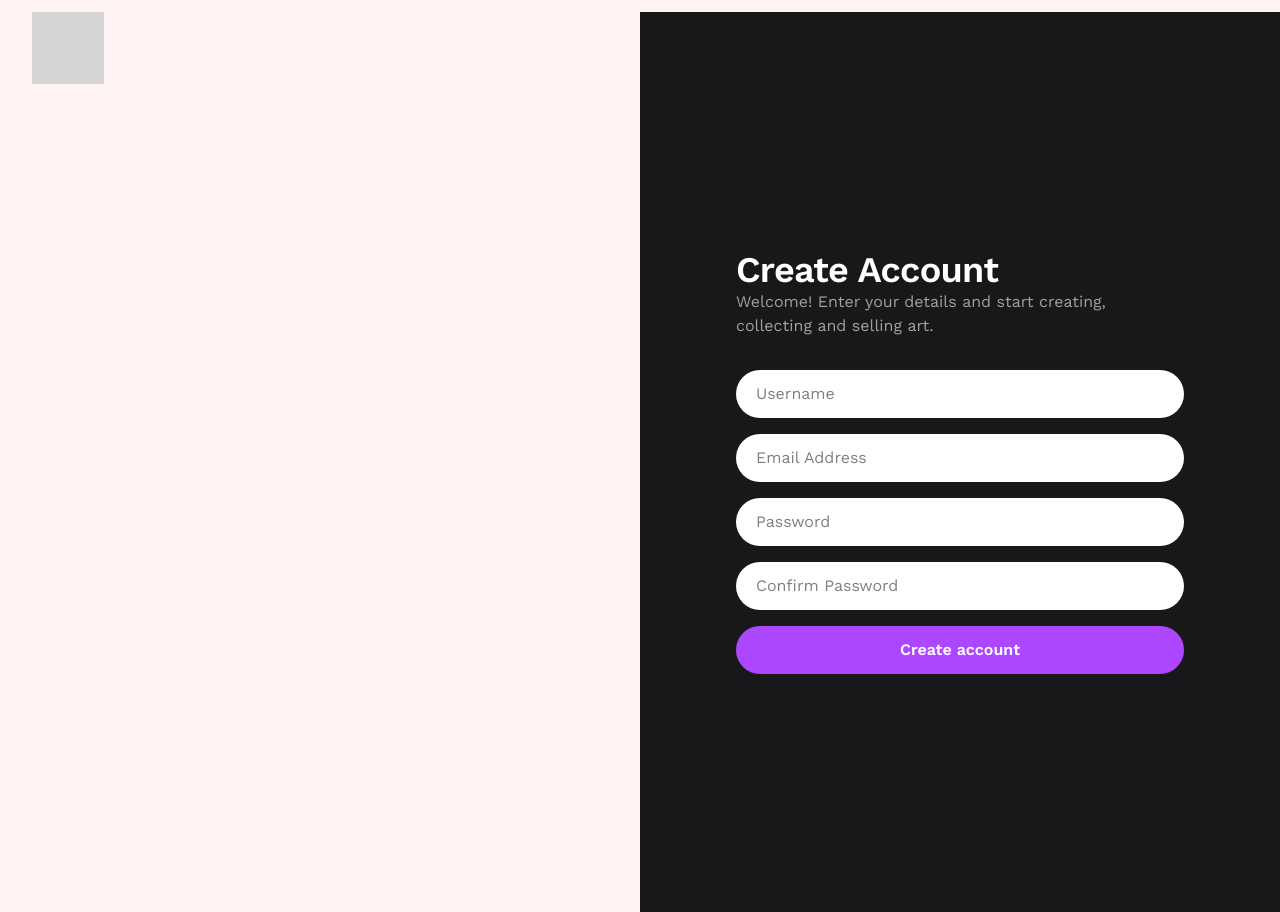
Test: SignupPage › shows a success message after signup
In the field with placeholder "Username": [960, 394] box [736,370,1184,418], type "artist"
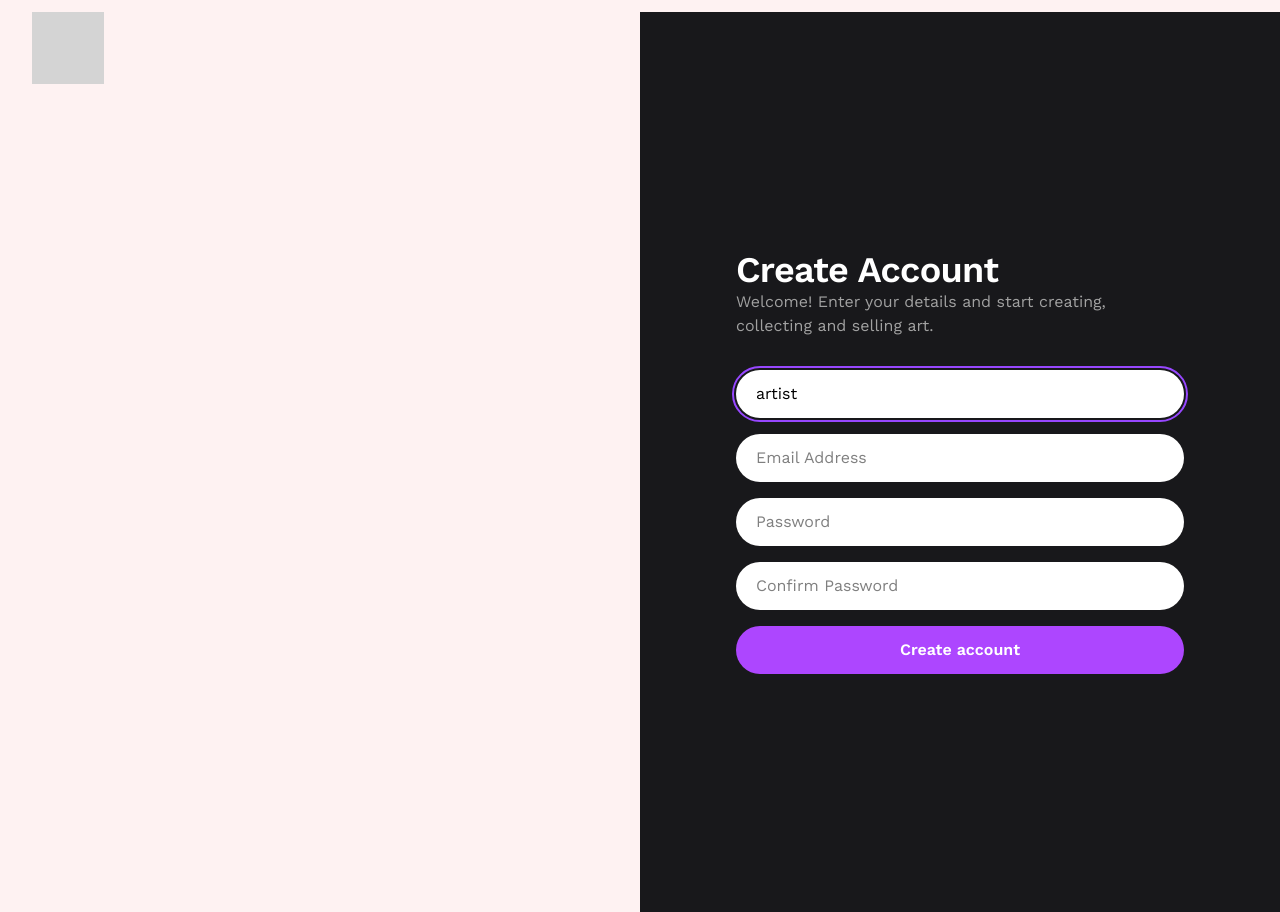
In the field with placeholder "Email Address": [960, 458] box [736,434,1184,482], type "me@test.io"
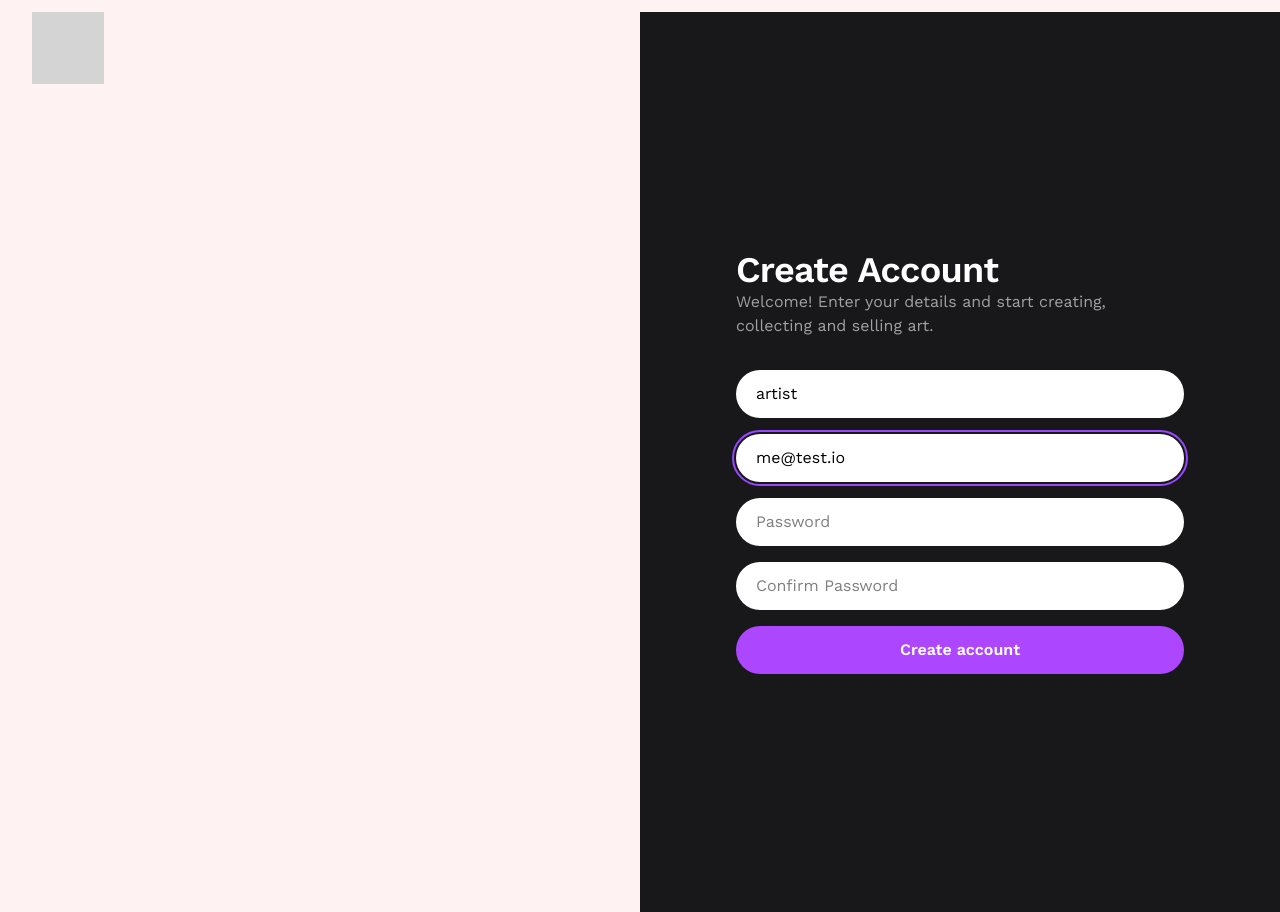
In the password field with placeholder "Password": [960, 522] box [736,498,1184,546], type "pass1234"
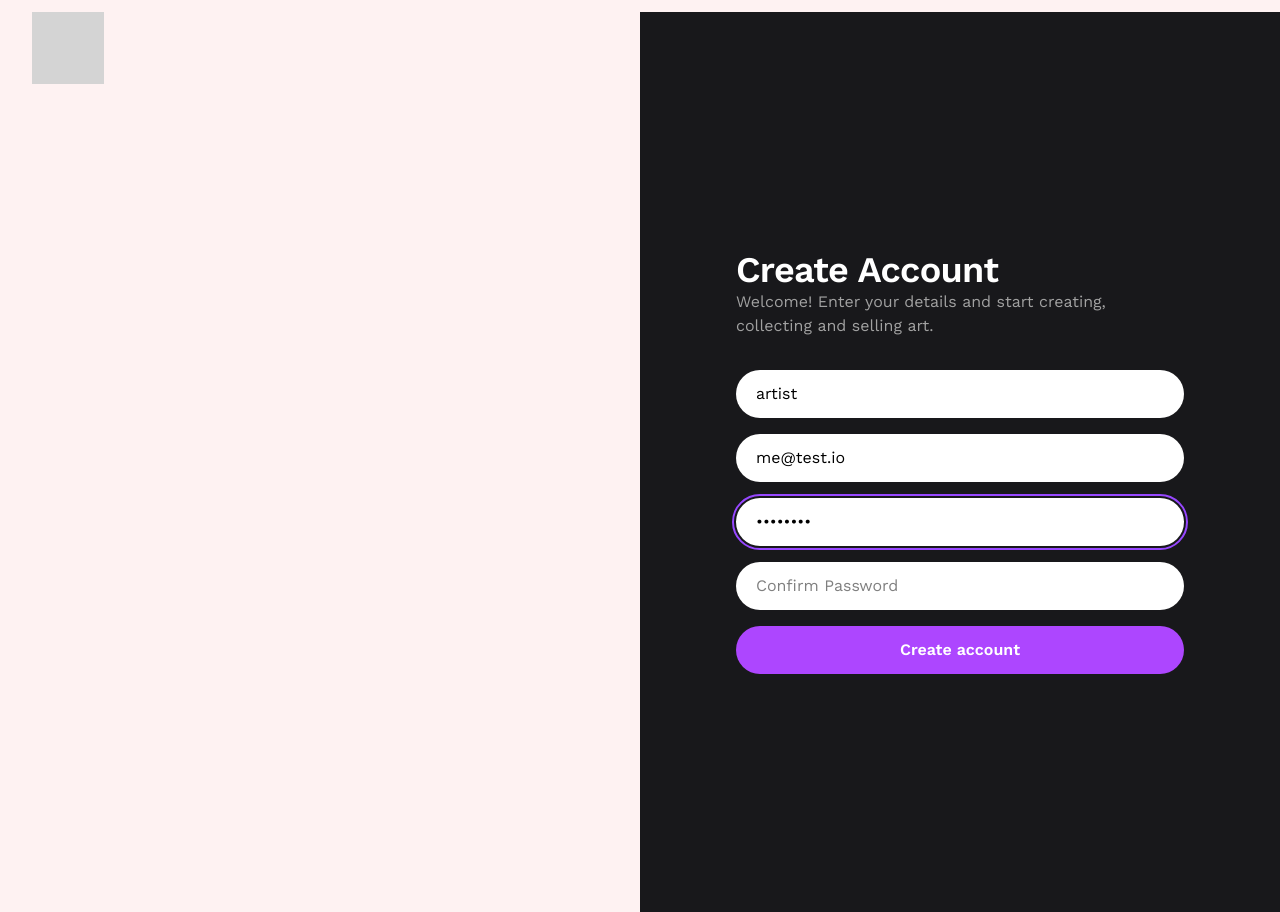
In the password field with placeholder "Confirm Password": [960, 586] box [736,562,1184,610], type "pass1234"
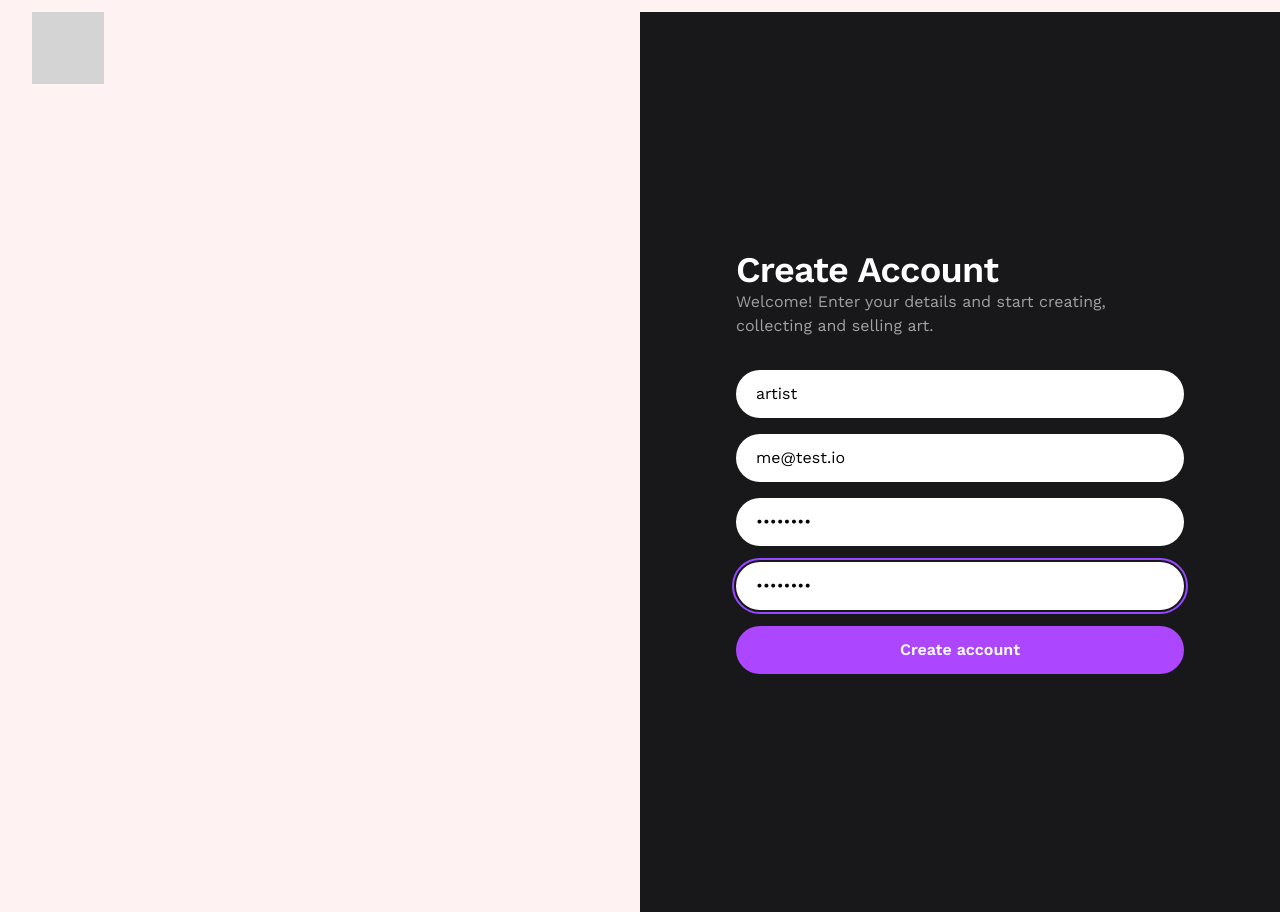
Click the button "Create account": [960, 650] box [736,626,1184,674]
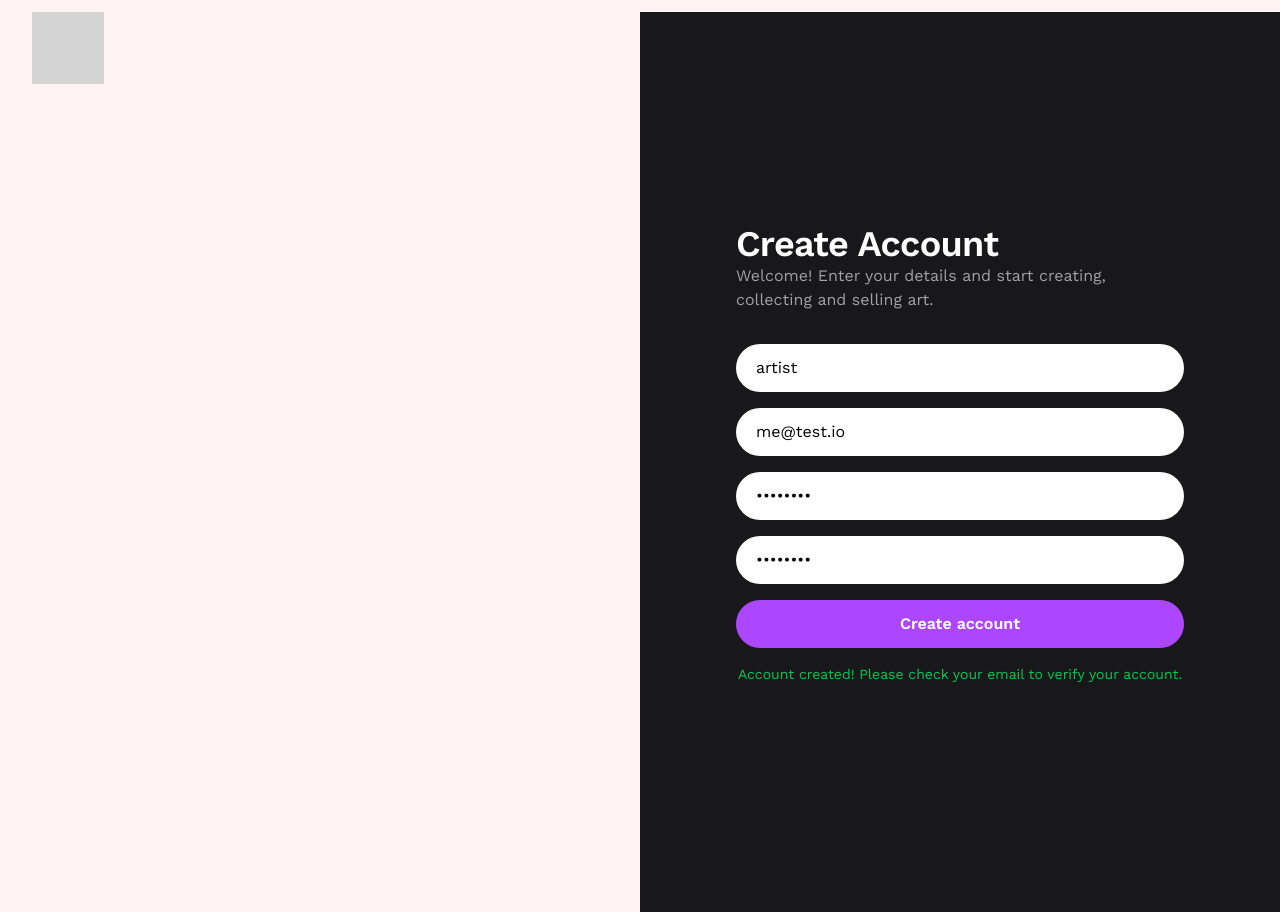
expect the text "Account created! Please check your email to verify your account." is shown: met, box [736,664,1184,684]
